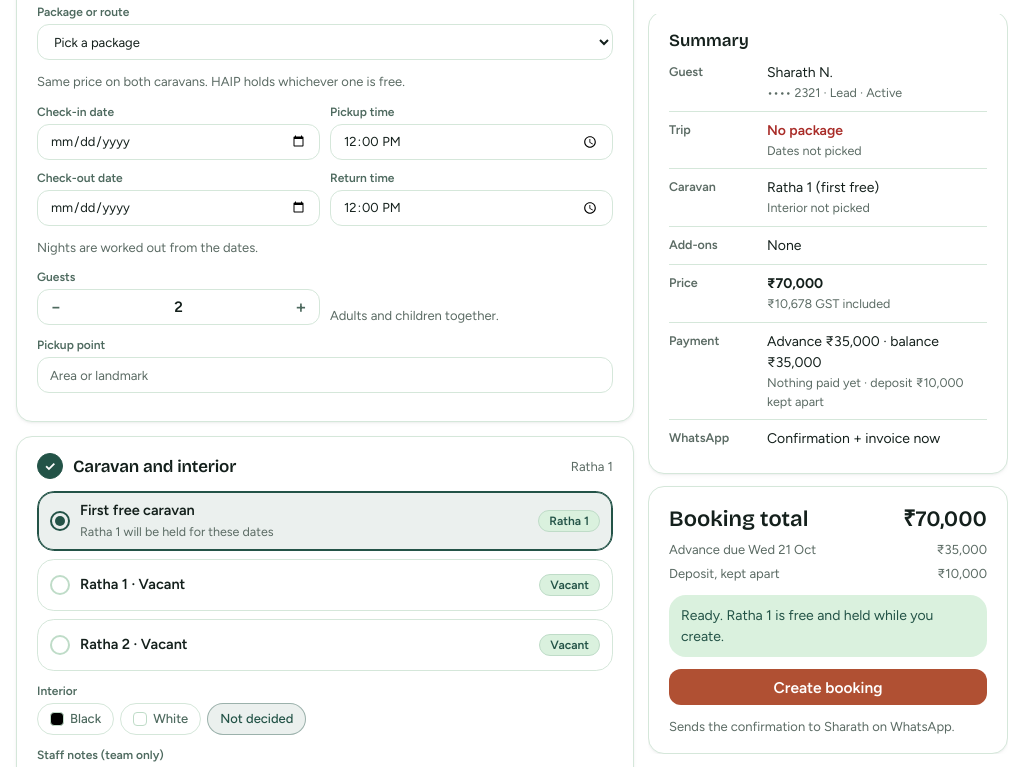
NewBookingFlow › creates and shows the receipt
The width and height of the screenshot is (1024, 767).
(page scrolled)
Step 1. Click the button "Create booking" → (828, 687), box top-left (669, 669), bottom-right (987, 705)
(page scrolled)
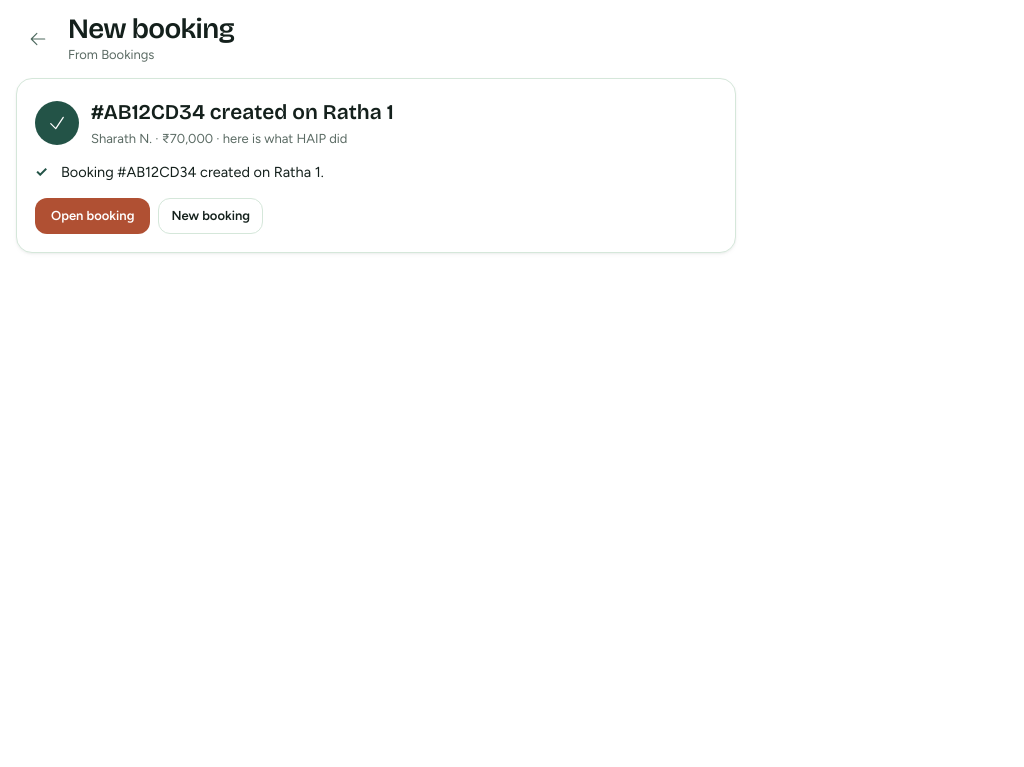
Result: the element with test id "receipt" is shown at top-left (16, 78), bottom-right (736, 253)
